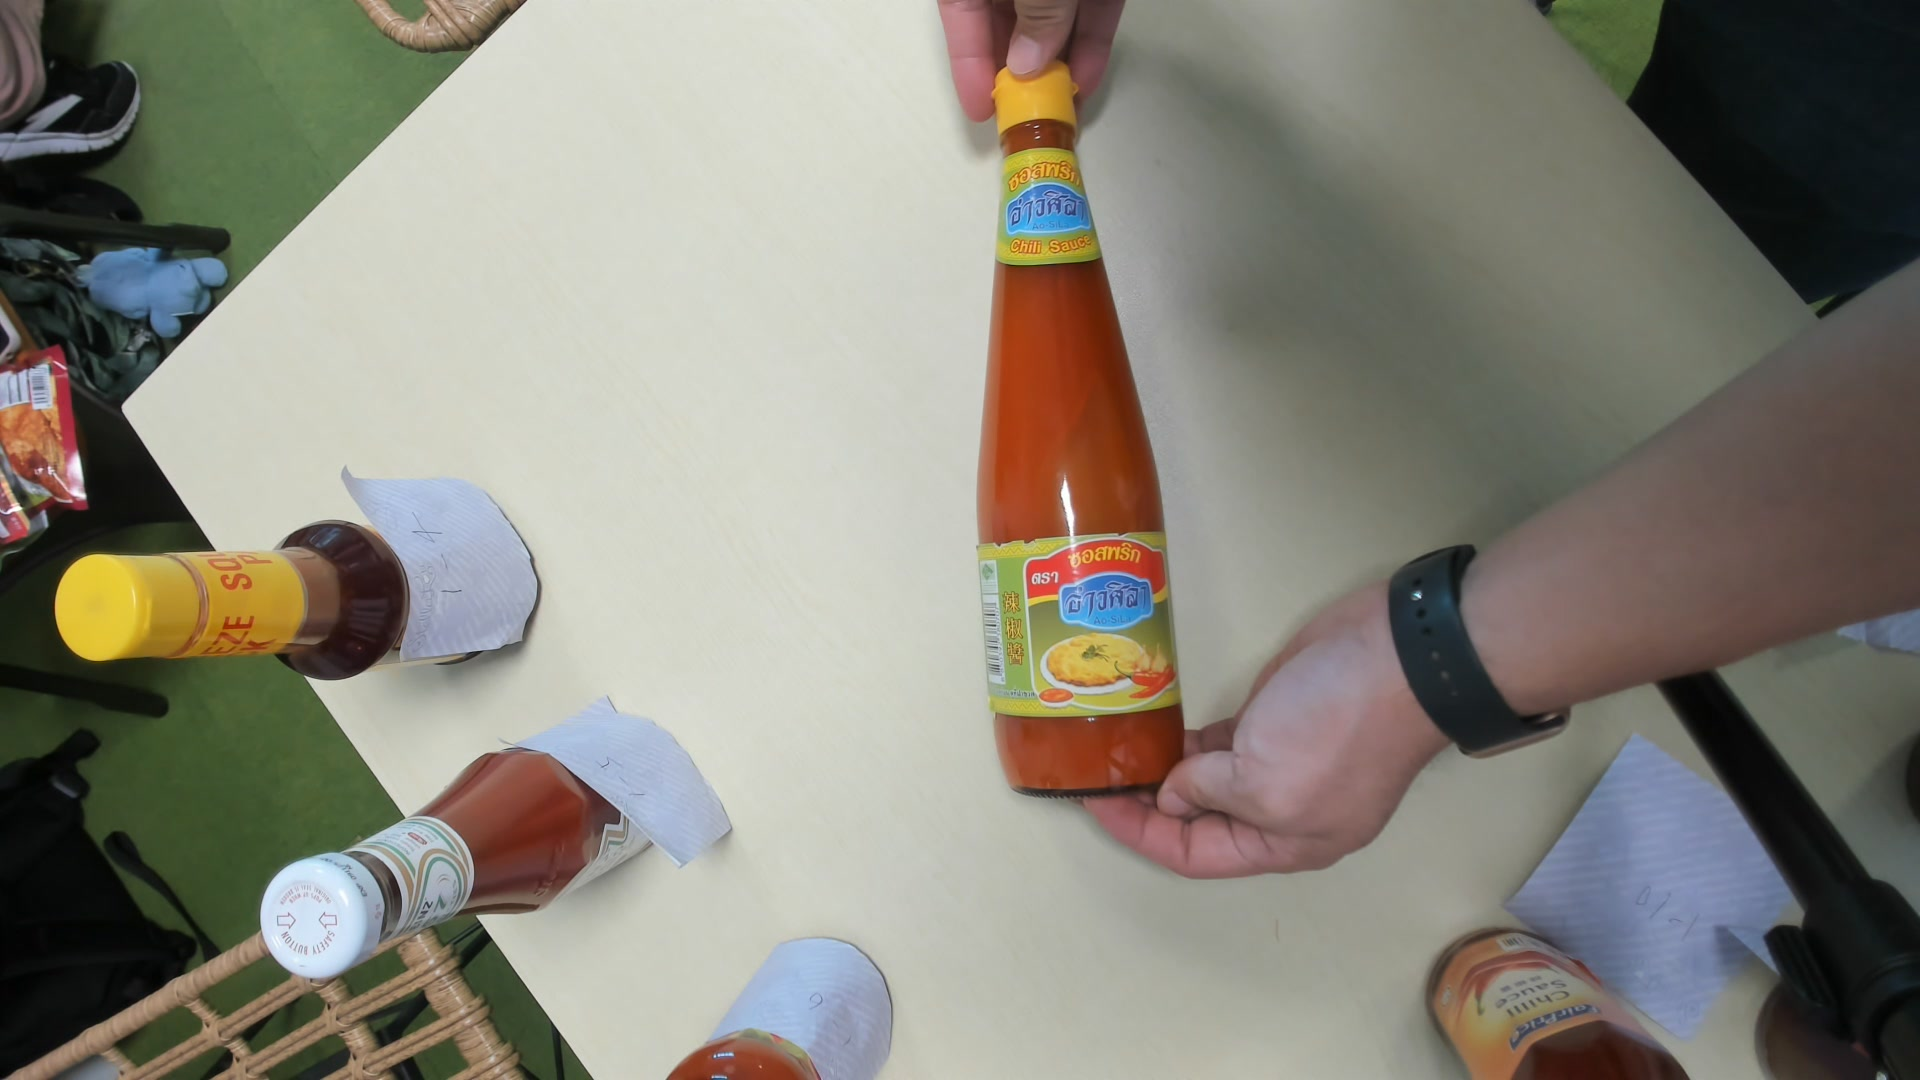KetchupChillSauce_600-699g_Halal_NonHealthy: (977, 58, 1191, 796)
